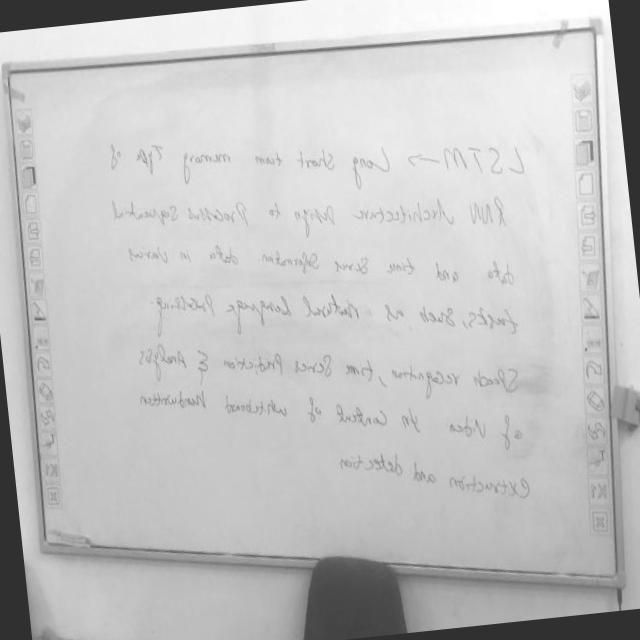White-board: (8, 26, 617, 594)
